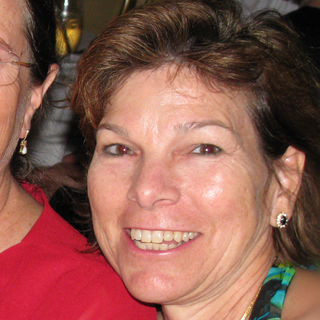eye: (99, 139, 138, 162), (180, 141, 227, 158)
